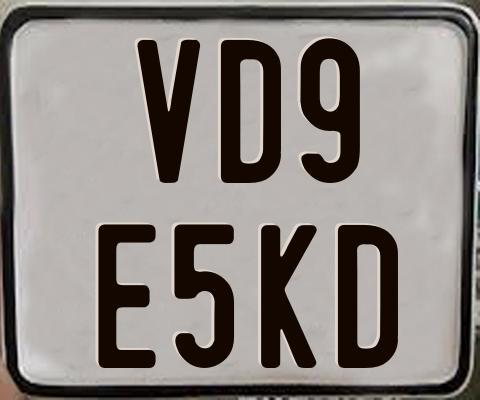5: (171, 222, 237, 372)
9: (300, 36, 364, 182)
D: (335, 223, 395, 371), (219, 38, 279, 183)
E: (96, 222, 154, 370)
K: (261, 224, 318, 368)
V: (135, 40, 201, 183)
